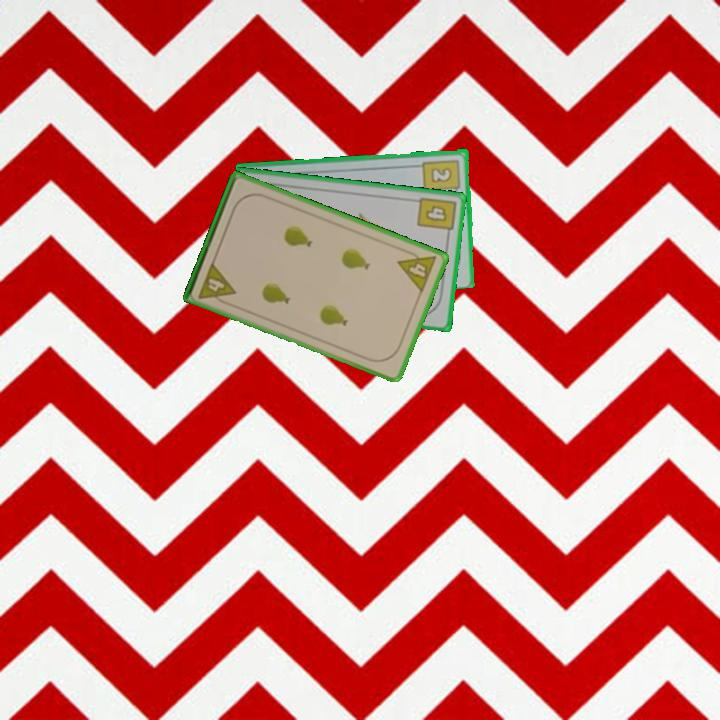2b: (420, 156, 463, 198)
4b: (414, 193, 458, 240)
4p: (394, 245, 439, 296), (195, 258, 238, 308)
